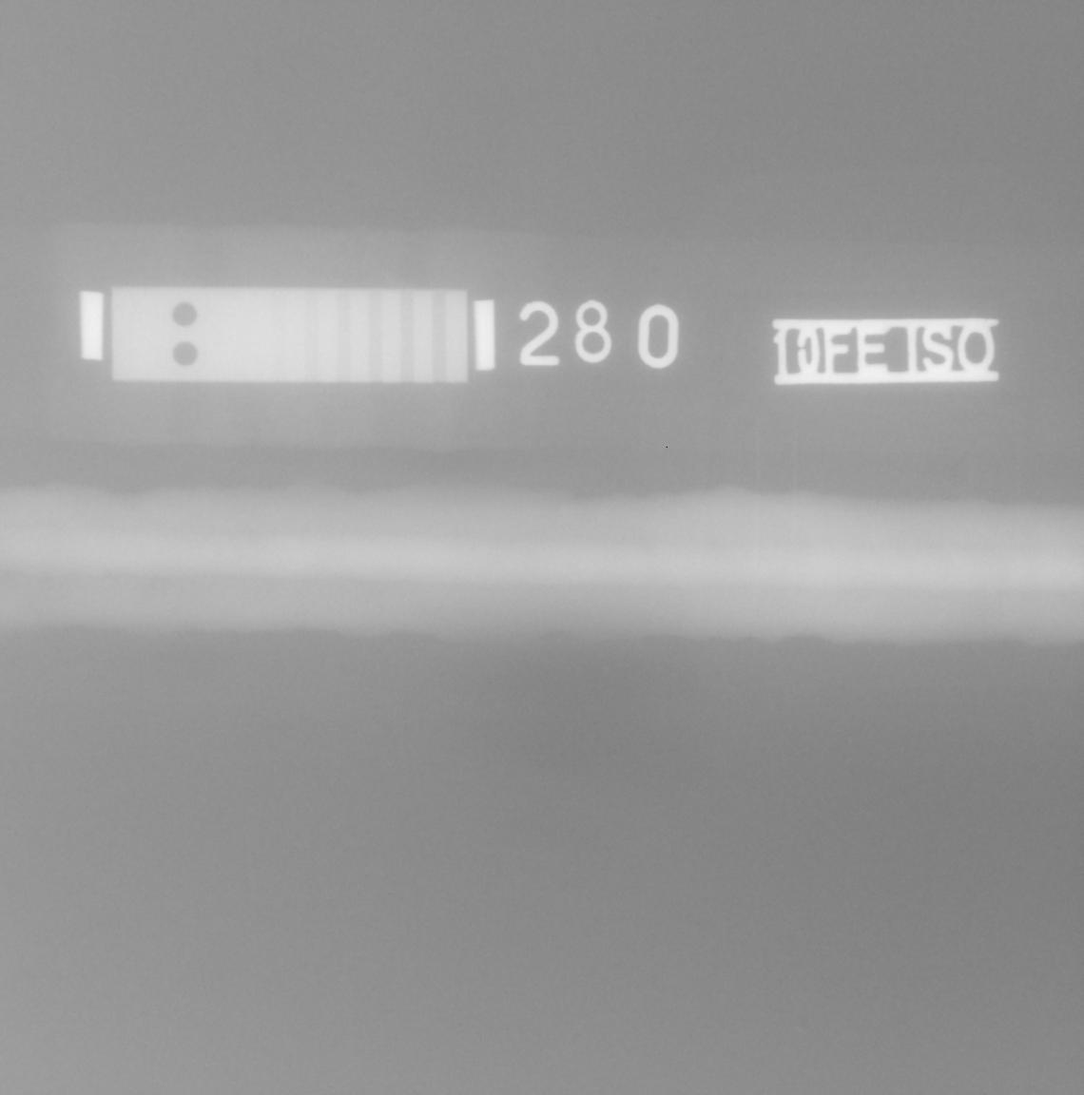Reference Standard 2: (112, 286, 467, 383)
